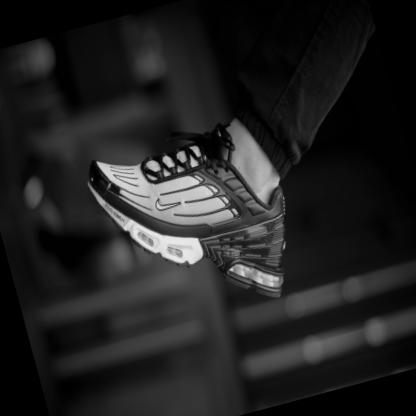ankle: (258, 174, 263, 181)
heel: (273, 262, 279, 268)
pinky: (118, 190, 124, 197)
right_foot: (84, 116, 309, 332)
toe: (100, 162, 103, 165)
